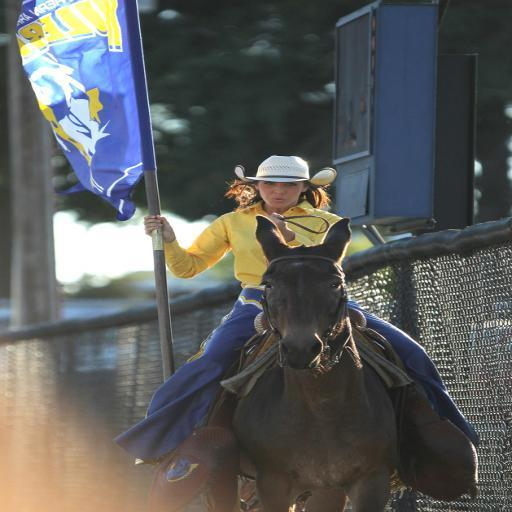horse: (198, 215, 409, 512)
